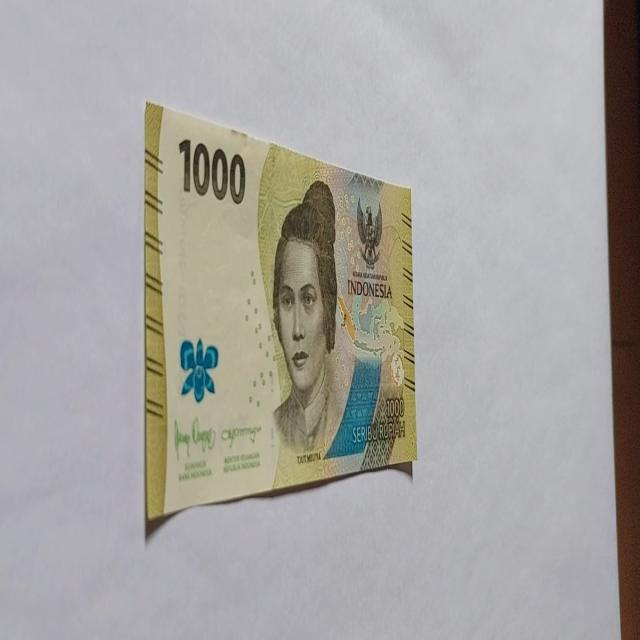seribu rupiah kertas: (143, 100, 417, 526)
